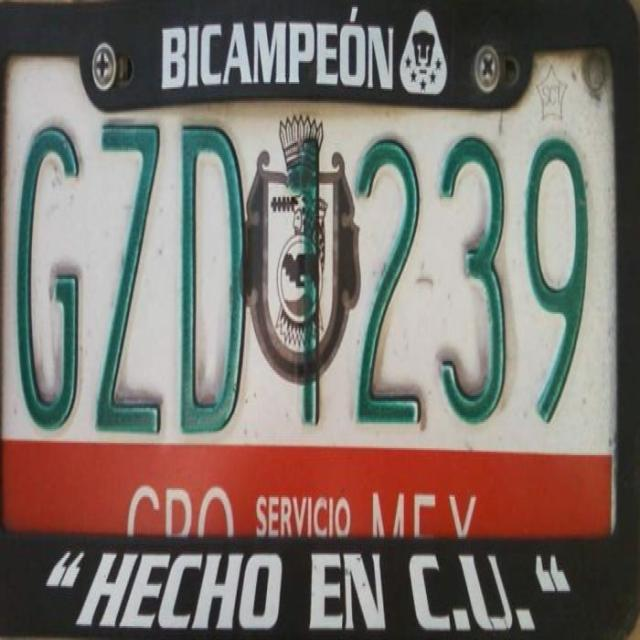placa: (6, 103, 622, 449)
